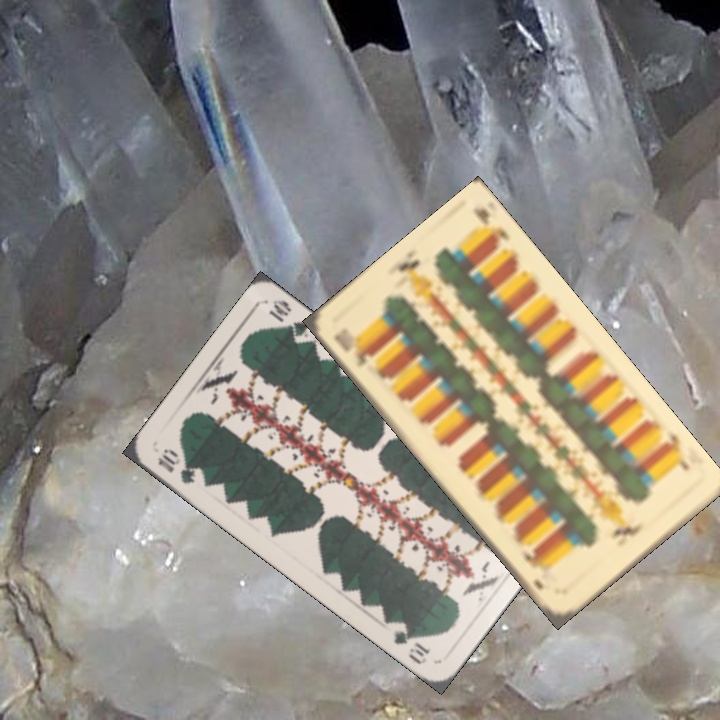E10: (330, 329, 375, 370), (661, 427, 692, 474)
G10: (153, 444, 200, 487)
